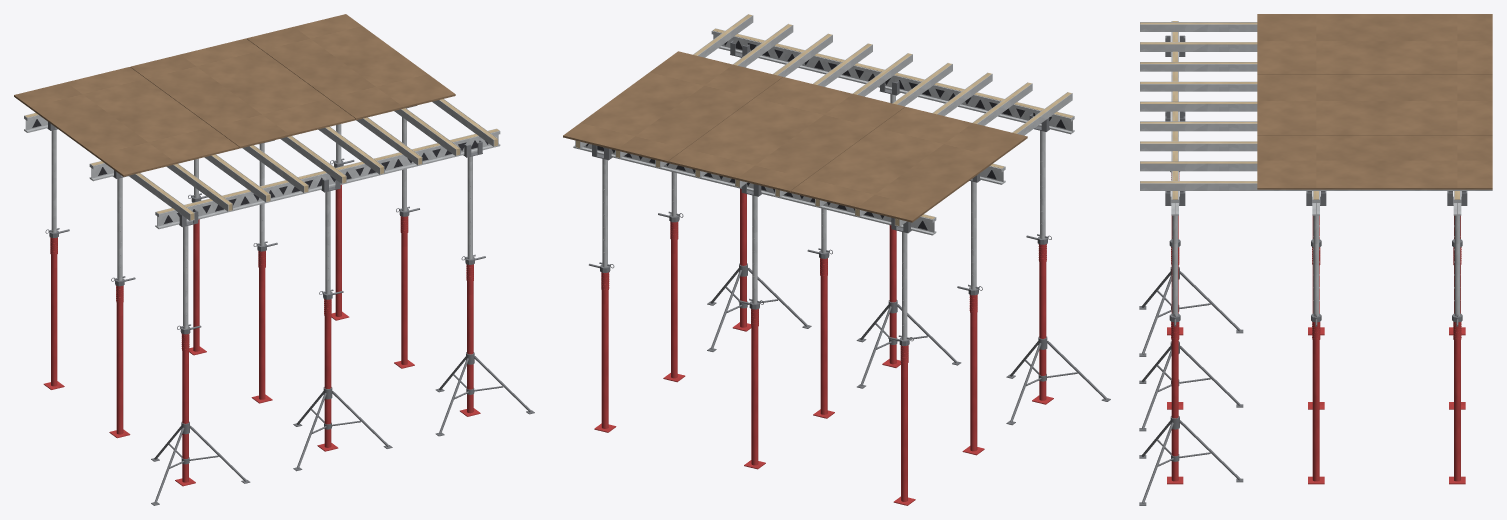
File: slab-formwork.glb
3 views of the same model, side by side, from view 1: azimuth 30°, elevation 25°; view 2: azimuth 150°, elevation 25°; view 3: azimuth 270°, elevation 25° (orthographic). The views are drawn at different scales.
Visible parts, largest first — view 1: BirchPlywood, PropOuterTubes, SecondaryBeams, PrimaryBeams, PropInnerTubes, Tripods, SecondaryBeamTimber, PropNuts&Pins, WebOpenings, TimberInserts, 4-WayHeads; view 2: BirchPlywood, PropOuterTubes, PrimaryBeams, SecondaryBeams, PropInnerTubes, Tripods, SecondaryBeamTimber, WebOpenings, 4-WayHeads, TimberInserts, PropNuts&Pins; view 3: BirchPlywood, SecondaryBeams, PropOuterTubes, Tripods, SecondaryBeamTimber, PropInnerTubes, 4-WayHeads, PrimaryBeams, TimberInserts, PropNuts&Pins.
Boxes of the visible parts, bbox=[...] form: BirchPlywood: bbox=[14, 14, 455, 176]; PropOuterTubes: bbox=[43, 184, 480, 486]; SecondaryBeams: bbox=[128, 99, 498, 220]; PrimaryBeams: bbox=[24, 112, 500, 229]; PropInnerTubes: bbox=[51, 108, 472, 328]; Tripods: bbox=[151, 352, 534, 505]; SecondaryBeamTimber: bbox=[136, 99, 497, 220]; PropNuts&Pins: bbox=[45, 158, 485, 334]; WebOpenings: bbox=[32, 119, 488, 223]; TimberInserts: bbox=[25, 113, 499, 213]; 4-WayHeads: bbox=[47, 105, 482, 227]; BirchPlywood: bbox=[563, 51, 1027, 222]; PropOuterTubes: bbox=[594, 188, 1053, 505]; PrimaryBeams: bbox=[573, 28, 1074, 235]; SecondaryBeams: bbox=[575, 14, 1072, 226]; PropInnerTubes: bbox=[602, 57, 1045, 340]; Tripods: bbox=[707, 263, 1110, 425]; SecondaryBeamTimber: bbox=[576, 14, 1071, 225]; WebOpenings: bbox=[586, 40, 1065, 229]; 4-WayHeads: bbox=[592, 40, 1049, 233]; TimberInserts: bbox=[713, 28, 1073, 219]; PropNuts&Pins: bbox=[589, 211, 1051, 345]; BirchPlywood: bbox=[1257, 14, 1492, 189]; SecondaryBeams: bbox=[1140, 22, 1492, 190]; PropOuterTubes: bbox=[1167, 173, 1465, 484]; Tripods: bbox=[1139, 267, 1243, 505]; SecondaryBeamTimber: bbox=[1140, 22, 1257, 183]; PropInnerTubes: bbox=[1172, 215, 1460, 316]; 4-WayHeads: bbox=[1165, 35, 1467, 205]; PrimaryBeams: bbox=[1171, 21, 1461, 215]; TimberInserts: bbox=[1172, 21, 1459, 199]; PropNuts&Pins: bbox=[1169, 171, 1462, 326].
Size of the model in its own units: 4.01 by 2.87 by 3.01.
6 materials, 6 textured.
